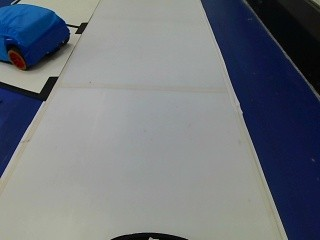car: (0, 3, 71, 73)
